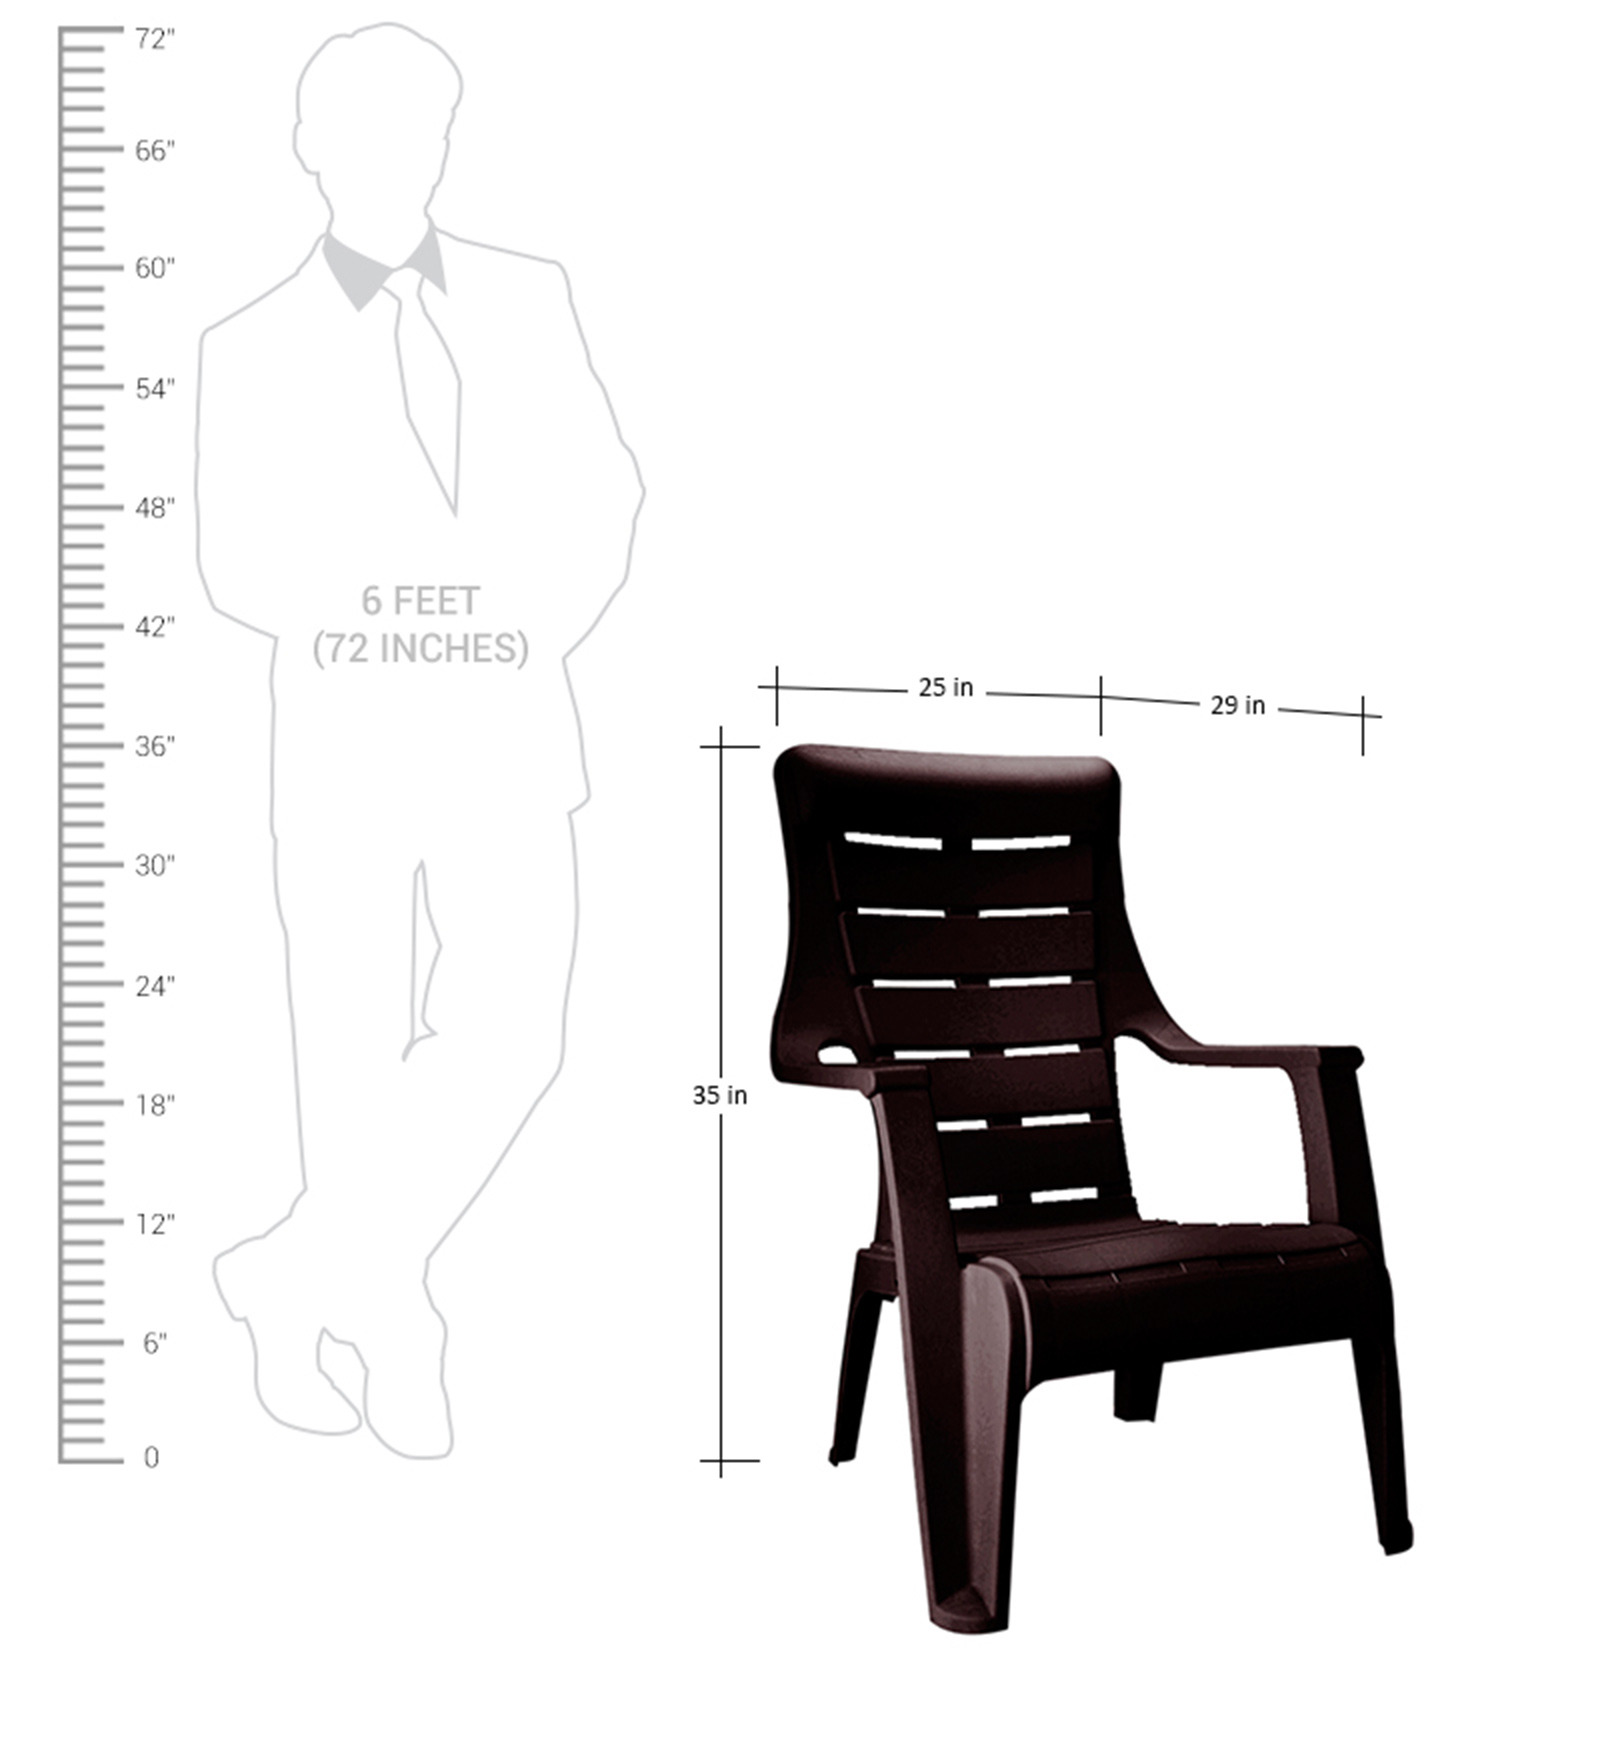Sunday Chair in Brown Colour by Nilkamal: (752, 725, 1457, 1660)
